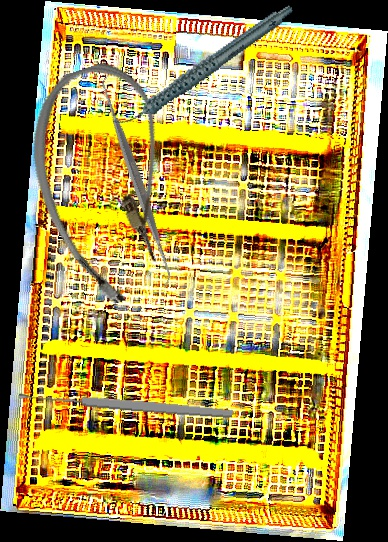Cannula: (8, 51, 208, 316)
Handpiece: (96, 4, 310, 130)
Spatula Surgical: (27, 73, 246, 289)
Surgical Spoon: (18, 388, 234, 421)
